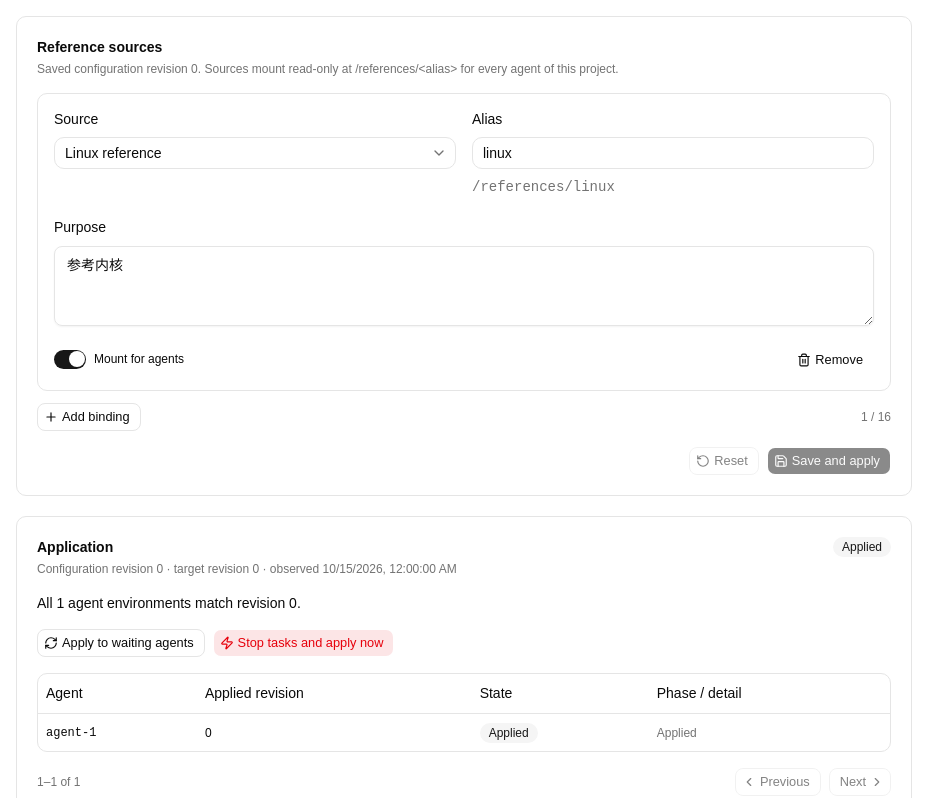
project references panel › shows the server revision on a CAS conflict and never overwrites the local draft
Replace the text in the field labelled "Alias" with "kernel": (673, 153) [472,137,874,169]
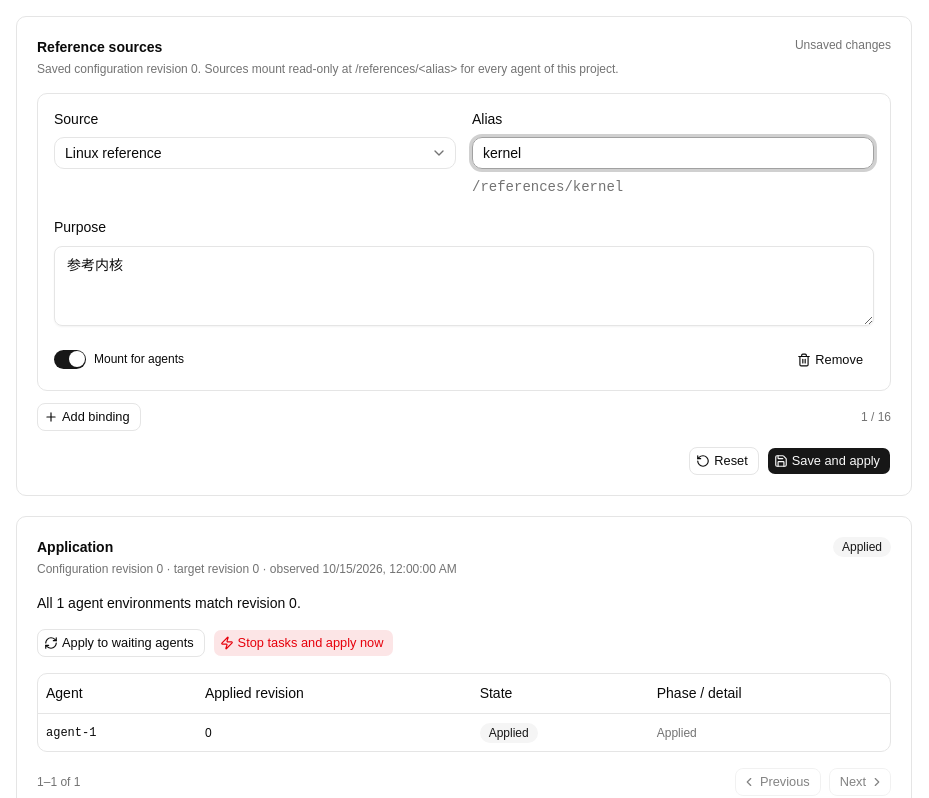
Click the button "Save and apply": (829, 460) [767,446,891,474]
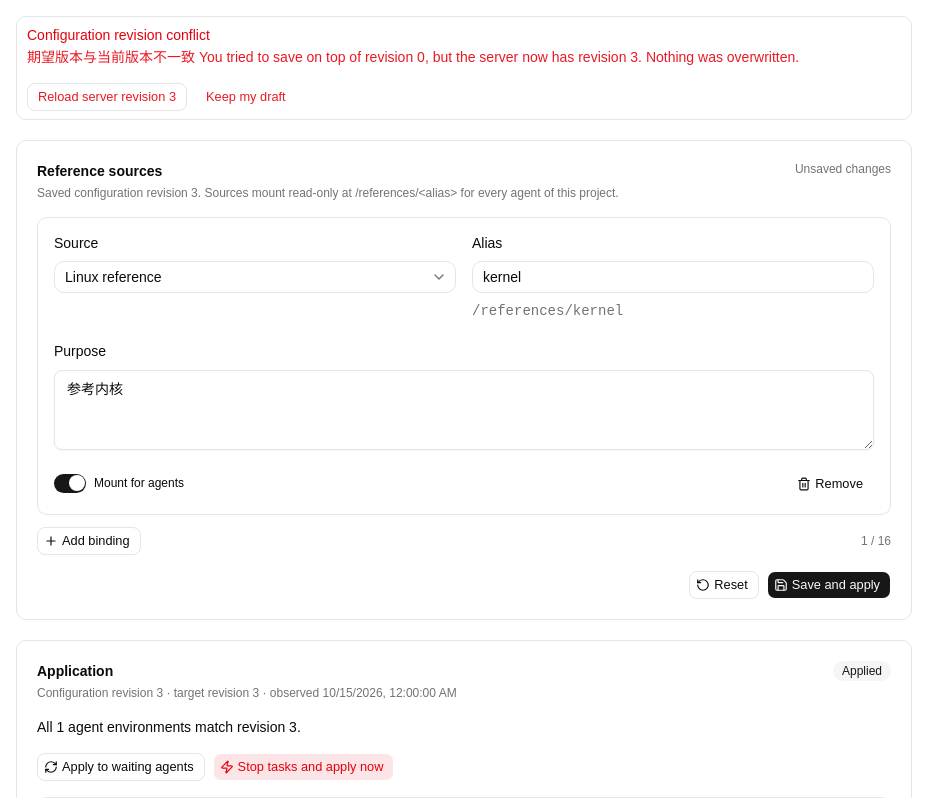
Now the text "Configuration revision conflict" is shown, box [27,27,210,43]
Now the text "server now has revision 3" is shown, box [27,47,901,67]
Click the button "Reload server revision 3": (107, 97) [27,83,187,111]
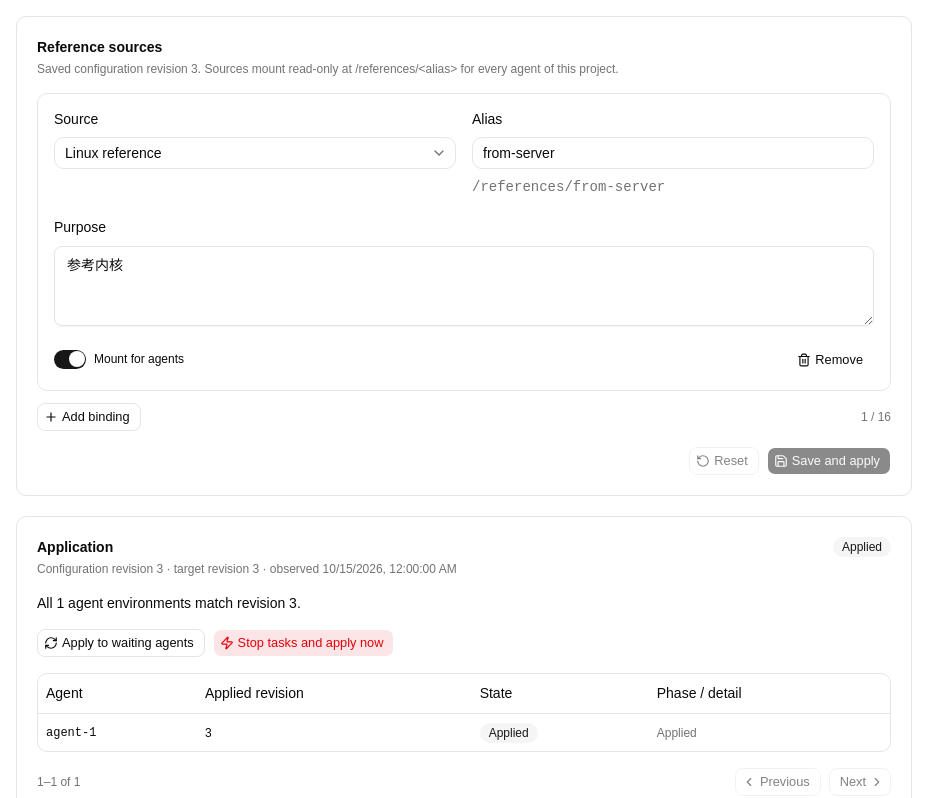
Now the field labelled "Alias" holds "from-server", box [472,137,874,169]
